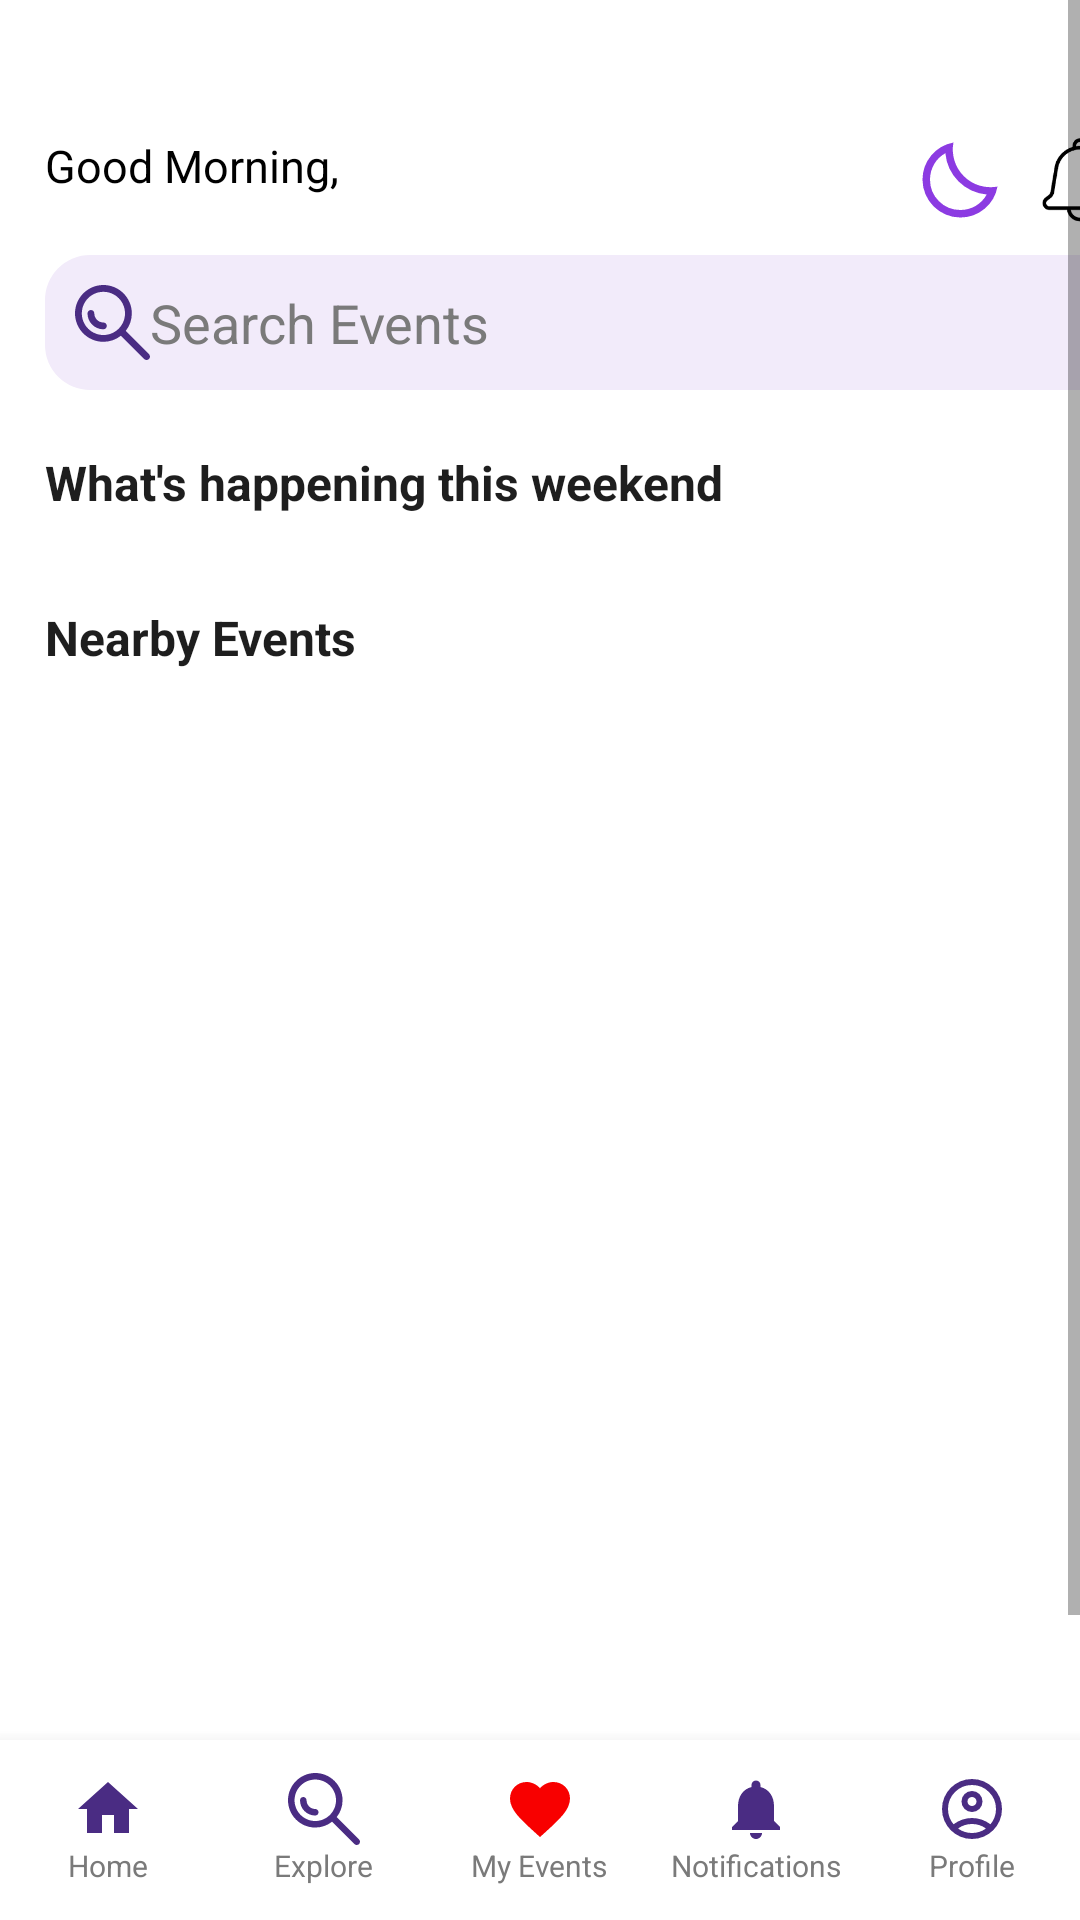

Point at icon controls on the screen. Image size 1080×1920, points as (x,y).
nigthmodelic: (960,180)
